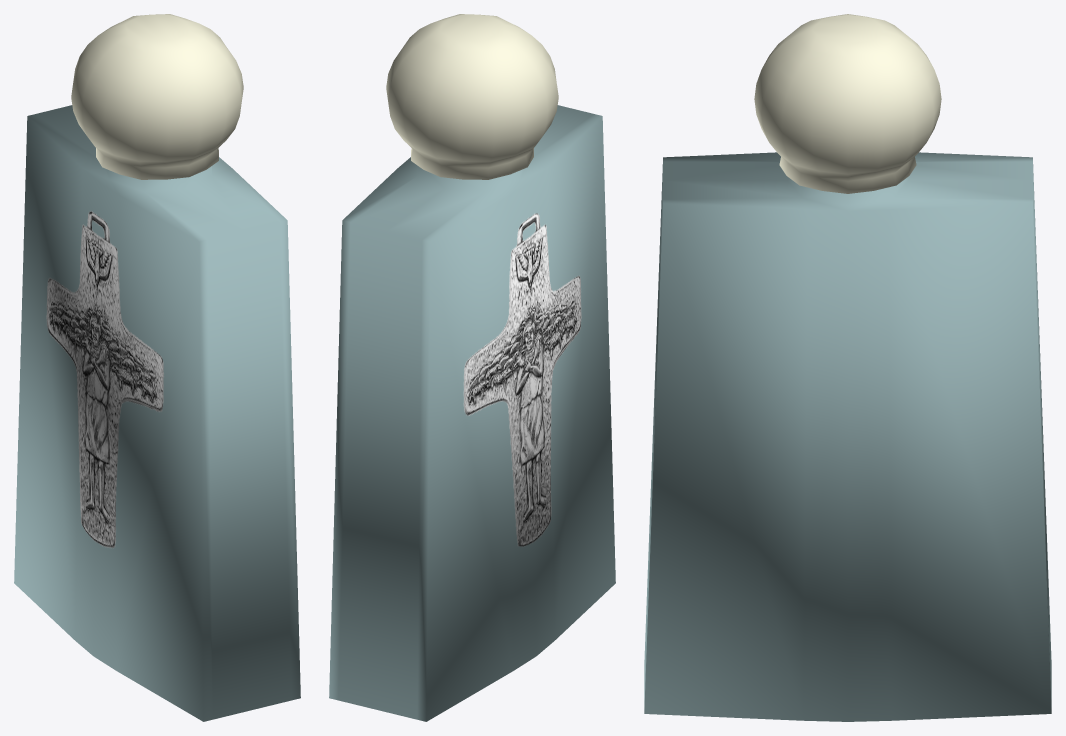
The model's file is holy_water.glb.
3 views of the same model, side by side, from view 1: azimuth 30°, elevation 25°; view 2: azimuth 150°, elevation 25°; view 3: azimuth 270°, elevation 25° (orthographic). The views are drawn at different scales.
Parts seen in each view (by area): view 1: Bottle low; view 2: Bottle low; view 3: Bottle low.
Part boxes in pixels (<box>): Bottle low: <box>14,14,300,721</box>; Bottle low: <box>329,14,615,721</box>; Bottle low: <box>644,14,1051,721</box>.
Size of the model in its own units: 101 by 393 by 220.
Materials: 1 (1 with a texture image).
